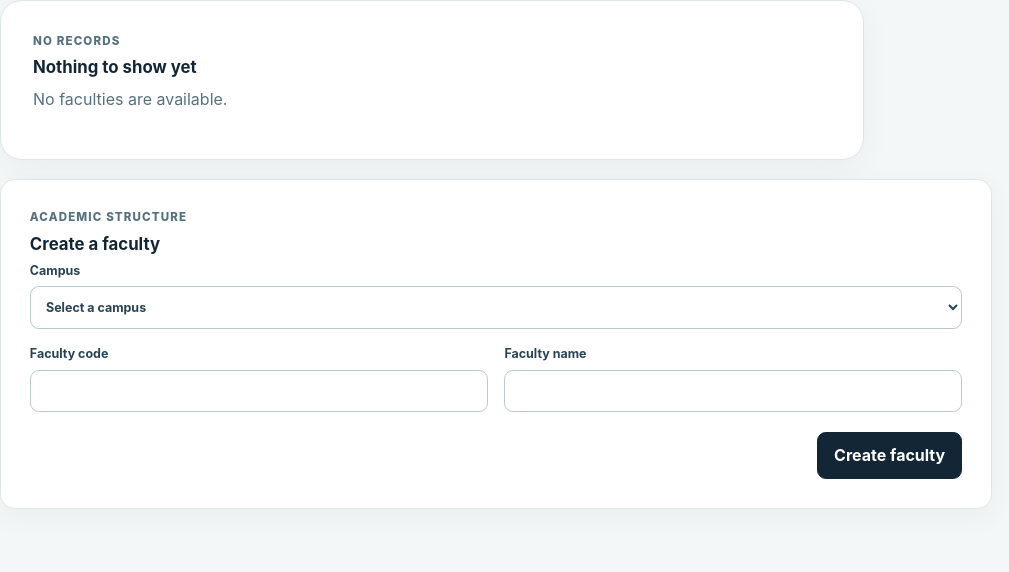
FacultyAdministration › surfaces backend rejection messages
Select "North Valley" in the dropdown labelled "Campus" at {"x": 496, "y": 307}, box [30, 286, 962, 329]
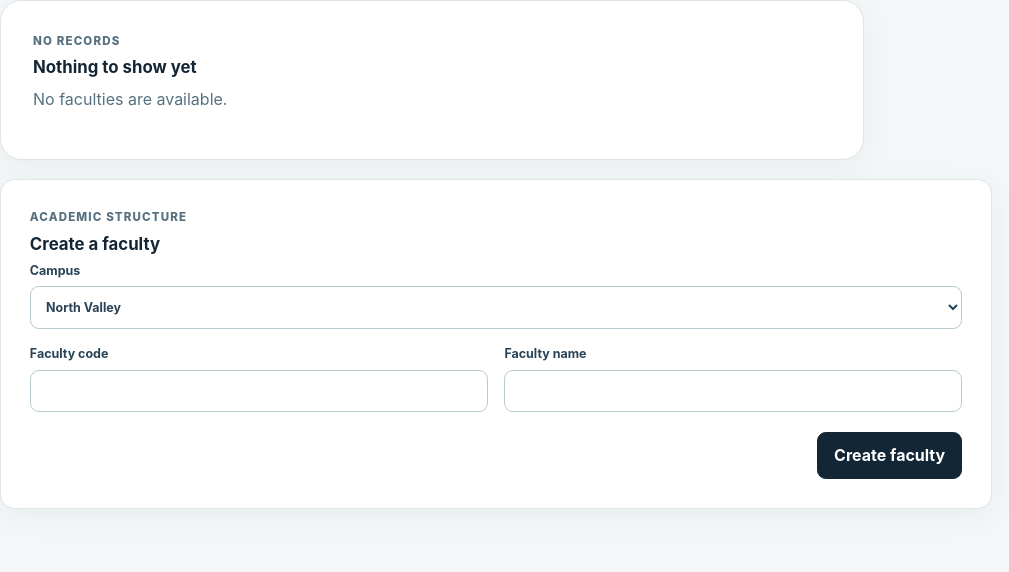
Type "ENG" into the field labelled "Faculty code" at {"x": 259, "y": 391}, box [30, 370, 488, 412]
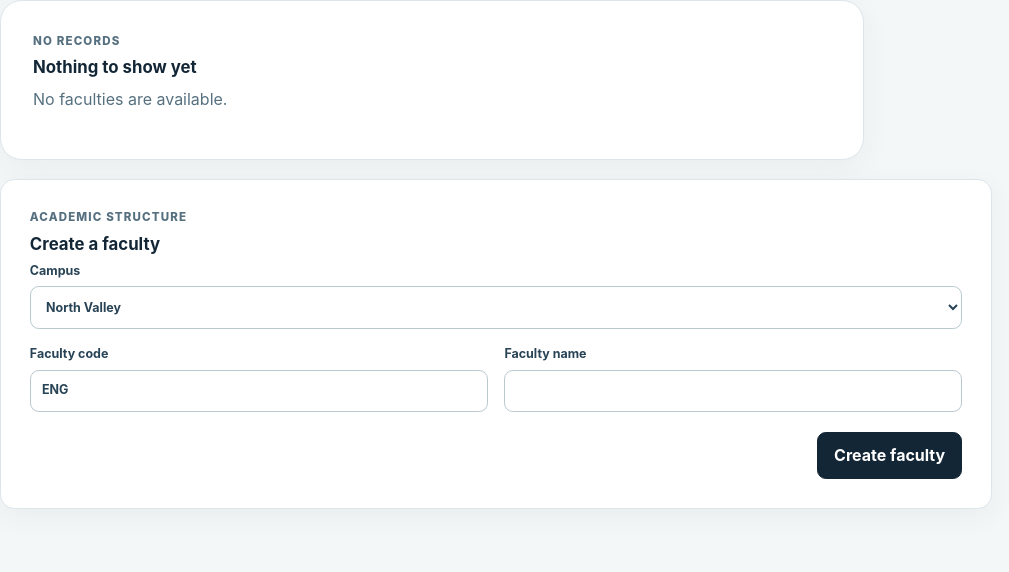
Type "Engineering" into the field labelled "Faculty name" at {"x": 733, "y": 391}, box [504, 370, 962, 412]
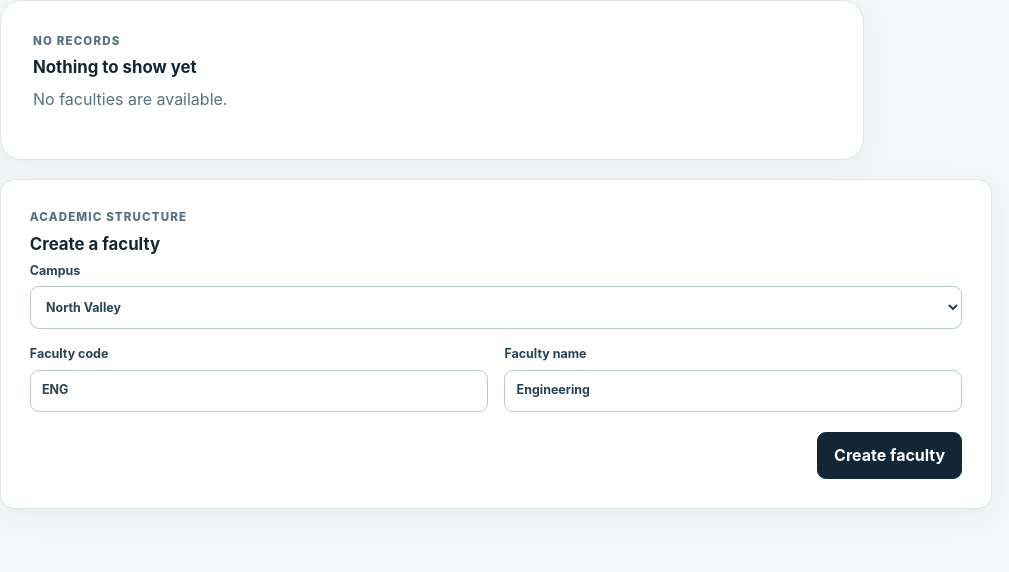
Click the button "Create faculty" at {"x": 890, "y": 455}, box [817, 432, 962, 479]
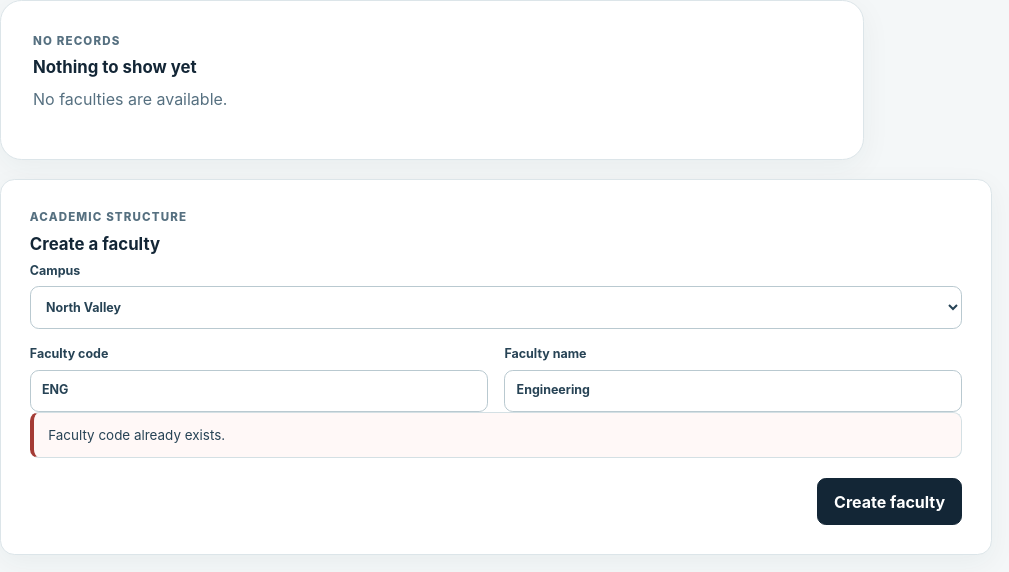
Check: the message reads "Faculty code already exists.", box [48, 427, 225, 443]
